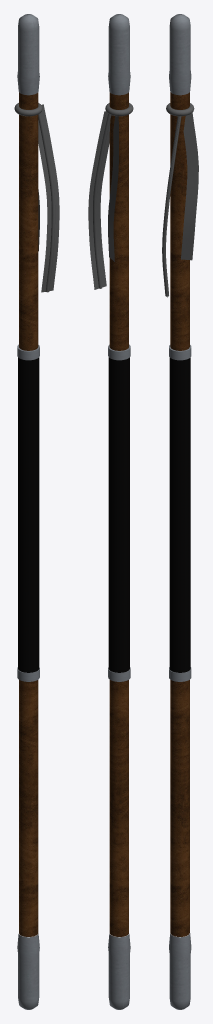
File: staff.glb
The picture shows the model from 3 angles, left to right: view 1: azimuth 30°, elevation 25°; view 2: azimuth 210°, elevation 25°; view 3: azimuth 270°, elevation 25°; orthographic projection.
Parts seen in each view (by area): view 1: StaffShaft, StaffGrip, StaffCloth1, StaffCapTop, StaffCapBottom, Staff; view 2: StaffShaft, StaffGrip, StaffCapTop, StaffCloth1, StaffCapBottom, Staff, StaffCloth2; view 3: StaffShaft, StaffGrip, StaffCloth2, StaffCapTop, StaffCapBottom, Staff.
Part boxes in pixels (x1=…): StaffShaft: x1=19, y1=92, x2=38, y2=936; StaffGrip: x1=18, y1=357, x2=39, y2=672; StaffCloth1: x1=38, y1=104, x2=59, y2=292; StaffCapTop: x1=17, y1=14, x2=39, y2=95; StaffCapBottom: x1=17, y1=933, x2=39, y2=1009; Staff: x1=14, y1=103, x2=55, y2=681; StaffShaft: x1=109, y1=92, x2=128, y2=936; StaffGrip: x1=108, y1=357, x2=129, y2=672; StaffCapTop: x1=108, y1=14, x2=130, y2=95; StaffCloth1: x1=88, y1=111, x2=110, y2=289; StaffCapBottom: x1=108, y1=934, x2=130, y2=1009; Staff: x1=93, y1=103, x2=133, y2=681; StaffCloth2: x1=108, y1=115, x2=118, y2=261; StaffShaft: x1=170, y1=92, x2=189, y2=936; StaffGrip: x1=169, y1=357, x2=190, y2=672; StaffCloth2: x1=181, y1=111, x2=198, y2=260; StaffCapTop: x1=169, y1=14, x2=191, y2=95; StaffCapBottom: x1=169, y1=933, x2=191, y2=1009; Staff: x1=162, y1=103, x2=194, y2=681.
Size of the model in its own units: 0.065 by 1.7 by 0.057.
4 materials, 4 textured.
